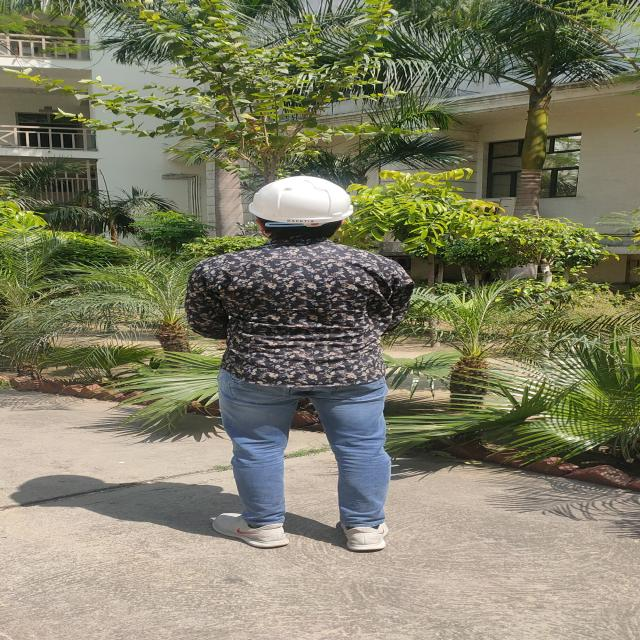no jacket: (218, 175, 394, 552)
